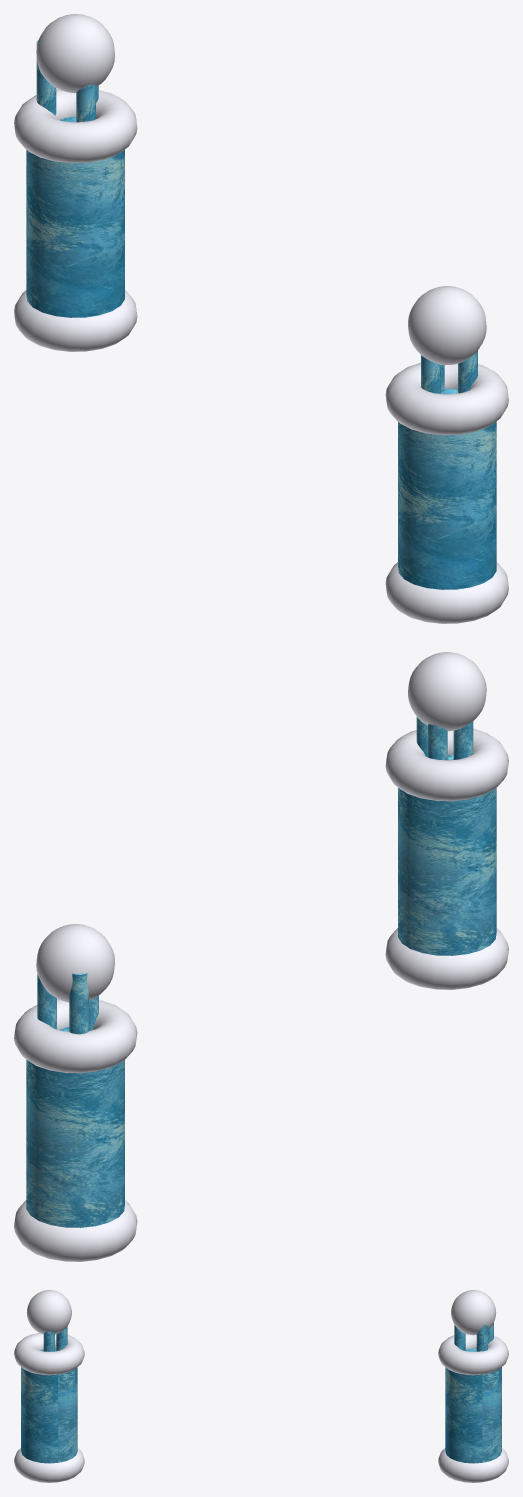
Rendered from encubadora.obj.
3 views of the same model, one above another, from view 1: azimuth 30°, elevation 25°; view 2: azimuth 150°, elevation 25°; view 3: azimuth 270°, elevation 25° (orthographic). The views are drawn at different scales.
Parts seen in each view (by area): view 1: pasted__pCylinder12 group55 pasted__polySurface16, pCylinder12 polySurface16, polySurface15 pCylinder12, pasted__pCylinder12 group55 pasted__polySurface15, group55 pasted__pSphere4, pSphere4, pasted__polySurface17 pasted__pCylinder12 group55, pCylinder12 polySurface17, pCylinder15, pCylinder13; view 2: pCylinder12 polySurface16, pasted__pCylinder12 group55 pasted__polySurface16, polySurface15 pCylinder12, pasted__pCylinder12 group55 pasted__polySurface15, group55 pasted__pSphere4, pSphere4, pCylinder12 polySurface17, pasted__polySurface17 pasted__pCylinder12 group55, pCylinder13, pCylinder14, group55 pasted__pCylinder15; view 3: pCylinder12 polySurface16, pasted__pCylinder12 group55 pasted__polySurface16, pasted__pCylinder12 group55 pasted__polySurface15, polySurface15 pCylinder12, group55 pasted__pSphere4, pSphere4, pCylinder12 polySurface17, pasted__polySurface17 pasted__pCylinder12 group55, pCylinder14, group55 pasted__pCylinder14.
Boxes of the visible parts, <box> form: pasted__pCylinder12 group55 pasted__polySurface16: <box>398,388,496,589</box>; pCylinder12 polySurface16: <box>26,116,124,317</box>; polySurface15 pCylinder12: <box>14,89,137,163</box>; pasted__pCylinder12 group55 pasted__polySurface15: <box>385,362,508,435</box>; group55 pasted__pSphere4: <box>408,286,486,365</box>; pSphere4: <box>36,14,114,93</box>; pasted__polySurface17 pasted__pCylinder12 group55: <box>385,562,508,623</box>; pCylinder12 polySurface17: <box>14,290,137,351</box>; pCylinder15: <box>76,84,95,122</box>; pCylinder13: <box>36,40,56,115</box>; pCylinder12 polySurface16: <box>26,1027,124,1227</box>; pasted__pCylinder12 group55 pasted__polySurface16: <box>398,755,496,955</box>; polySurface15 pCylinder12: <box>14,999,137,1073</box>; pasted__pCylinder12 group55 pasted__polySurface15: <box>385,728,508,801</box>; group55 pasted__pSphere4: <box>408,652,486,731</box>; pSphere4: <box>36,924,114,1002</box>; pCylinder12 polySurface17: <box>14,1200,137,1261</box>; pasted__polySurface17 pasted__pCylinder12 group55: <box>385,928,508,989</box>; pCylinder13: <box>69,973,88,1034</box>; pCylinder14: <box>37,974,56,1029</box>; group55 pasted__pCylinder15: <box>428,724,447,760</box>; pCylinder12 polySurface16: <box>445,1348,501,1463</box>; pasted__pCylinder12 group55 pasted__polySurface16: <box>21,1349,77,1463</box>; pasted__pCylinder12 group55 pasted__polySurface15: <box>14,1333,84,1375</box>; polySurface15 pCylinder12: <box>438,1334,508,1375</box>; group55 pasted__pSphere4: <box>26,1290,71,1334</box>; pSphere4: <box>451,1290,496,1335</box>; pCylinder12 polySurface17: <box>438,1448,508,1482</box>; pasted__polySurface17 pasted__pCylinder12 group55: <box>14,1448,84,1482</box>; pCylinder14: <box>476,1325,487,1351</box>; group55 pasted__pCylinder14: <box>43,1331,54,1351</box>.
Size of the model in its own units: 2.51 by 7.02 by 17.51.
14 materials, 14 textured.
